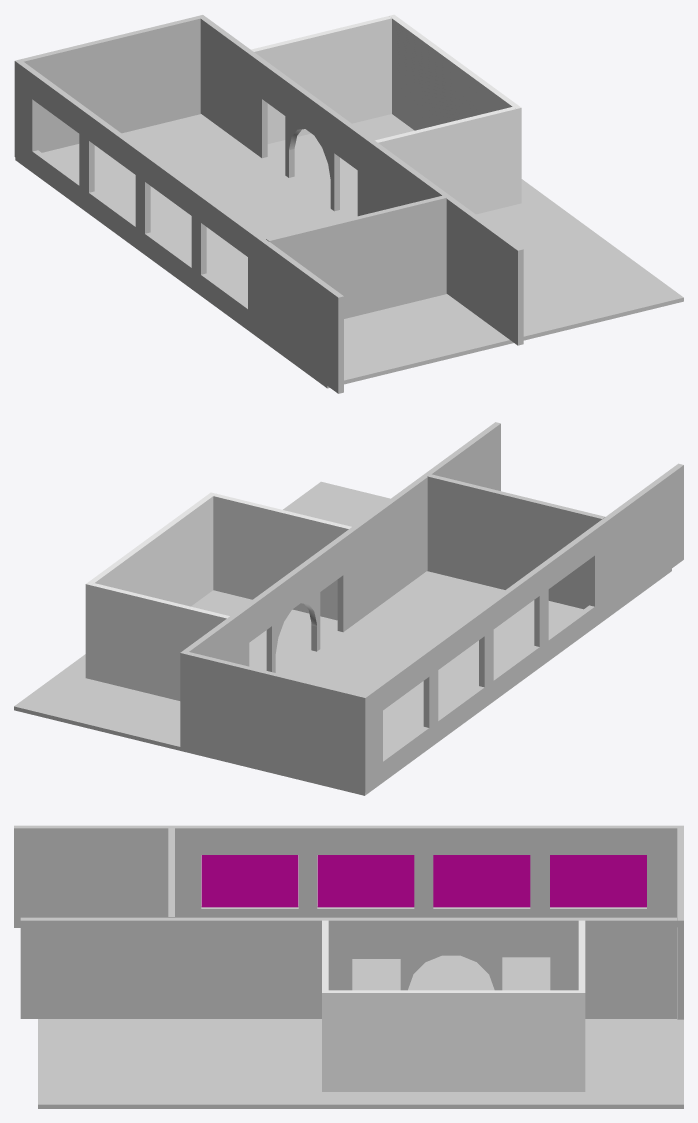
File: Diner_Greybox.gltf
The picture shows the model from 3 angles, top to bottom: view 1: azimuth 30°, elevation 25°; view 2: azimuth 150°, elevation 25°; view 3: azimuth 270°, elevation 25°; orthographic projection. The views are drawn at different scales.
Parts seen in each view (by area): view 1: DinerStructure2, KitchenStructure2; view 2: DinerStructure2, KitchenStructure2; view 3: DinerStructure2, KitchenStructure2, WindowGlass2, WindowGlass3, WindowGlass4, WindowGlass.
Part boxes in pixels (bbox=[...]): DinerStructure2: bbox=[14, 15, 683, 393]; KitchenStructure2: bbox=[251, 14, 521, 214]; DinerStructure2: bbox=[14, 422, 683, 795]; KitchenStructure2: bbox=[85, 492, 351, 700]; DinerStructure2: bbox=[14, 825, 683, 1108]; KitchenStructure2: bbox=[322, 920, 585, 1091]; WindowGlass2: bbox=[433, 855, 530, 907]; WindowGlass3: bbox=[317, 855, 414, 907]; WindowGlass4: bbox=[201, 855, 298, 907]; WindowGlass: bbox=[550, 855, 646, 907].
Size of the model in its own units: 28.44 by 7.61 by 44.5.
